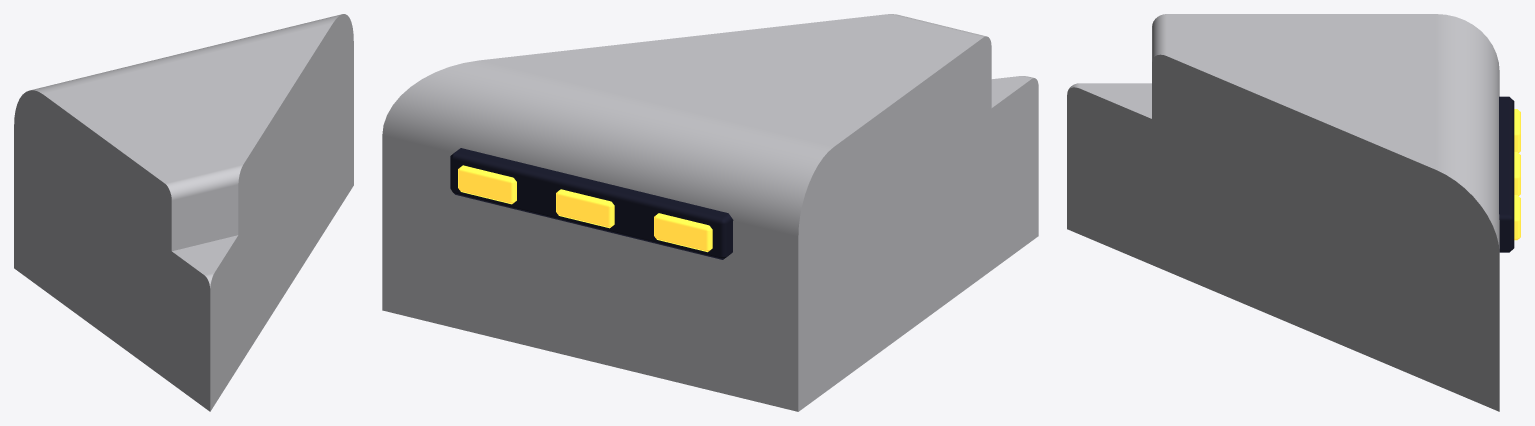
File: roof.shoulder.straight.lit.s3.c0_45.glb
3 renders of one model, left to right at view 1: azimuth 30°, elevation 25°; view 2: azimuth 150°, elevation 25°; view 3: azimuth 270°, elevation 25°, orthographic. The views are drawn at different scales.
Visible parts, largest first — view 1: roof.shoulder.straight.lit.s3.c0_45; view 2: roof.shoulder.straight.lit.s3.c0_45; view 3: roof.shoulder.straight.lit.s3.c0_45.
Part boxes in pixels (left/top/right/bottom): roof.shoulder.straight.lit.s3.c0_45: left=14, top=14, right=353, bottom=411; roof.shoulder.straight.lit.s3.c0_45: left=382, top=14, right=1038, bottom=411; roof.shoulder.straight.lit.s3.c0_45: left=1067, top=14, right=1520, bottom=411.
Size of the model in its own units: 1.02 by 0.56 by 1.07.
